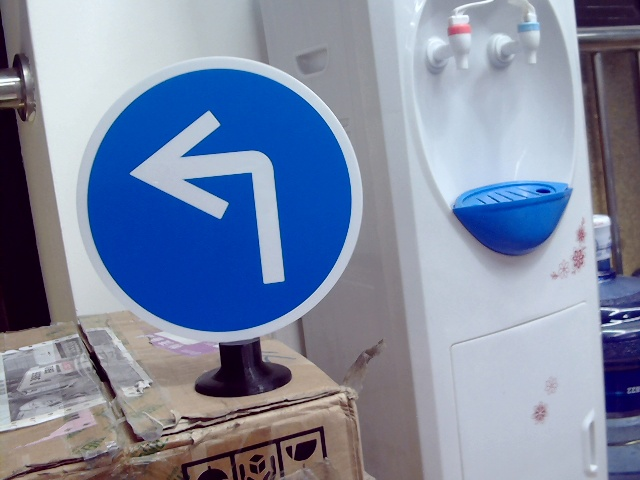turn_left: (130, 111, 293, 289)
